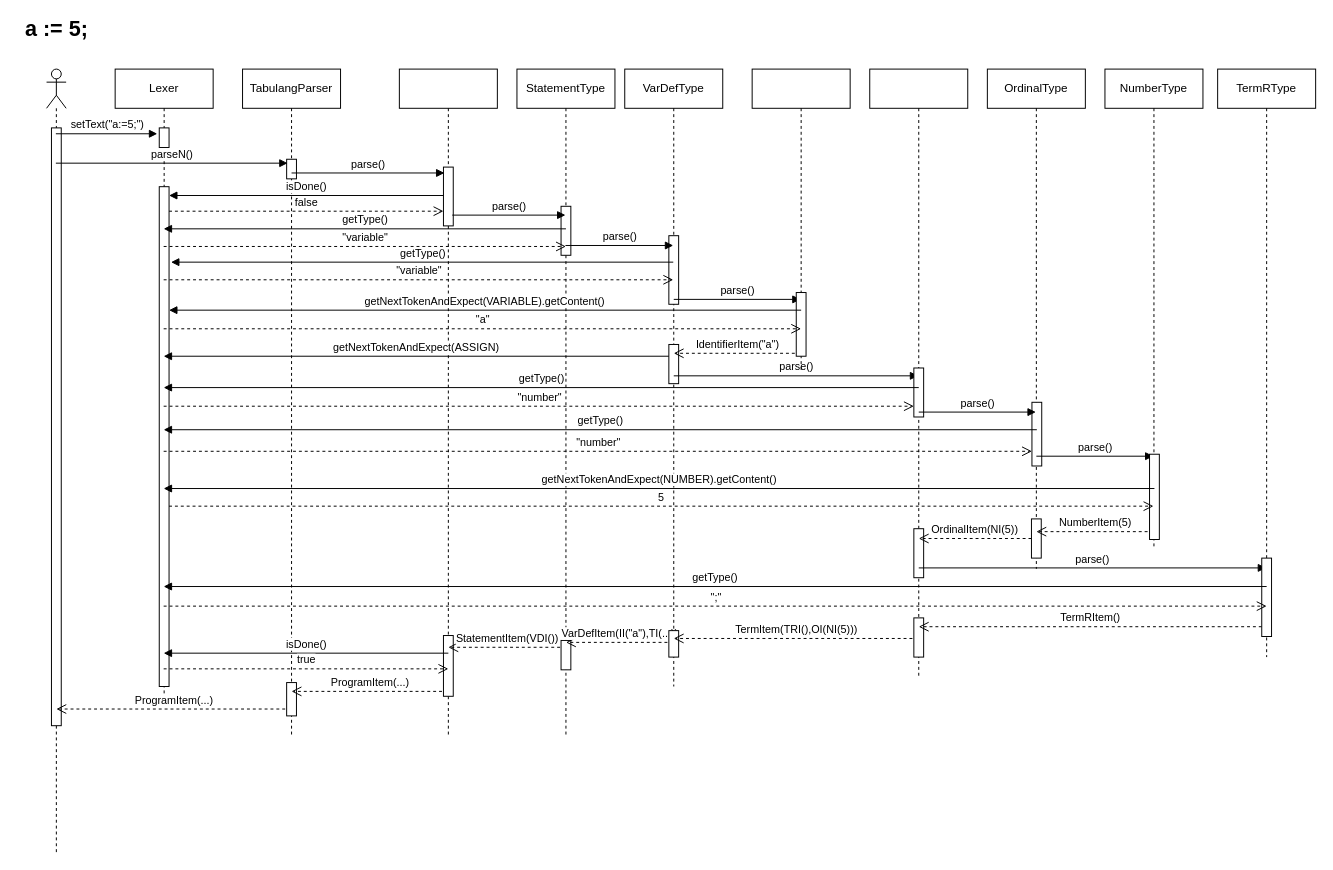
This 1333x870 diagram has some shape labels left out. Each missing label, with the box of its shape:
IdentifierType: (751, 68, 850, 373)
ProgramType: (398, 68, 497, 735)
TermType: (869, 68, 968, 677)
